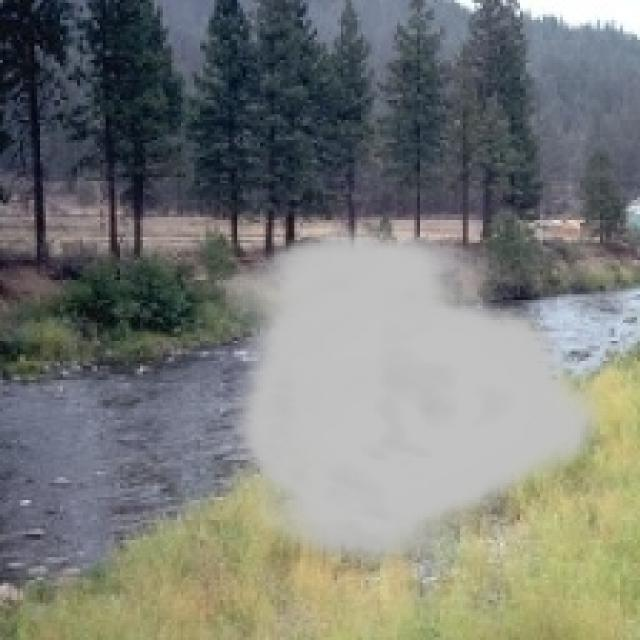smoke: (226, 223, 608, 577)
